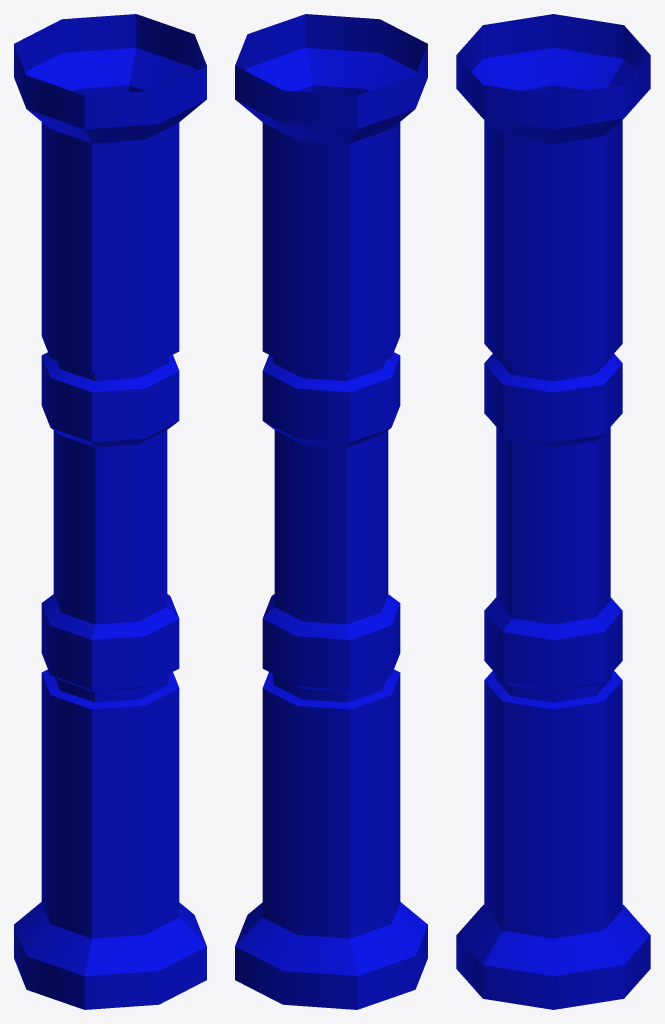
The model's file is SM_VALVE_CANO_03.fbx.
3 renders of one model, left to right at view 1: azimuth 30°, elevation 25°; view 2: azimuth 150°, elevation 25°; view 3: azimuth 270°, elevation 25°, orthographic.
Visible parts, largest first — view 1: SM_VALVE_CANO_03; view 2: SM_VALVE_CANO_03; view 3: SM_VALVE_CANO_03.
Part boxes in pixels (left/top/right/bottom): SM_VALVE_CANO_03: left=14, top=14, right=206, bottom=1009; SM_VALVE_CANO_03: left=235, top=14, right=427, bottom=1009; SM_VALVE_CANO_03: left=456, top=14, right=650, bottom=1009.
Size of the model in its own units: 0.77 by 4 by 0.77.
